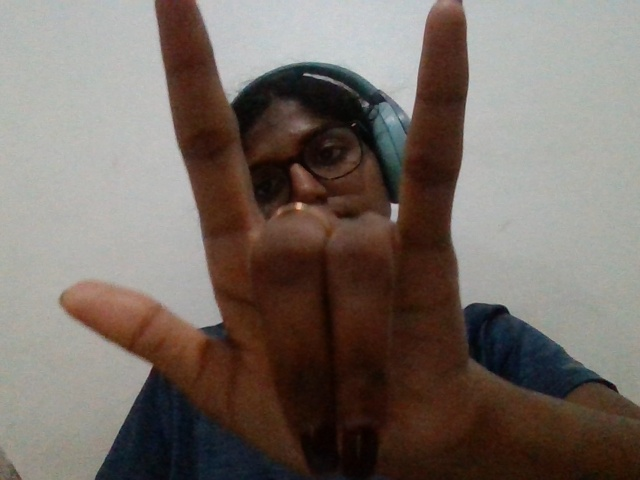I Love You: (50, 5, 552, 480)
